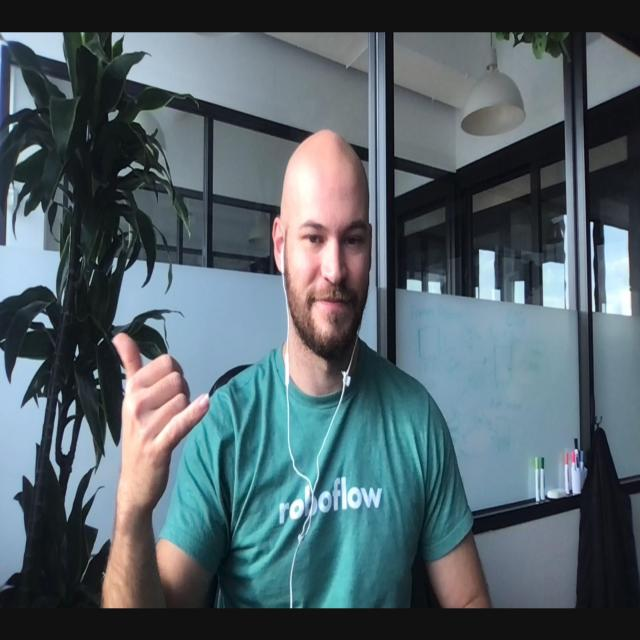face: (282, 156, 372, 364)
